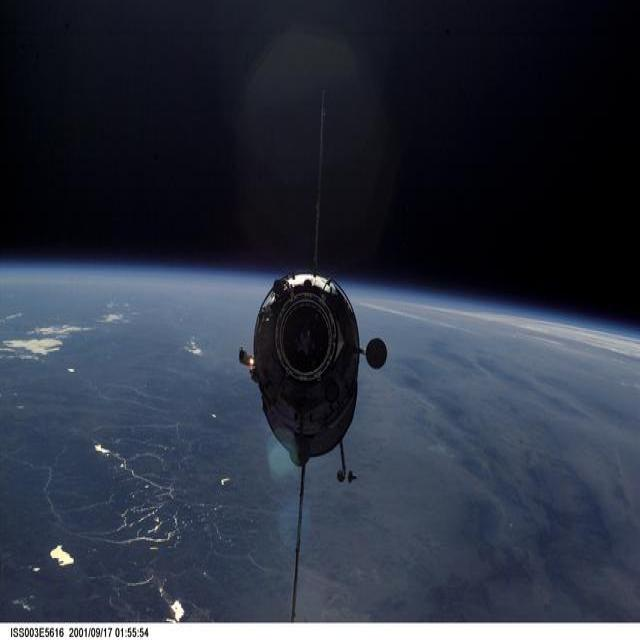medium_debris: (235, 89, 382, 629)
